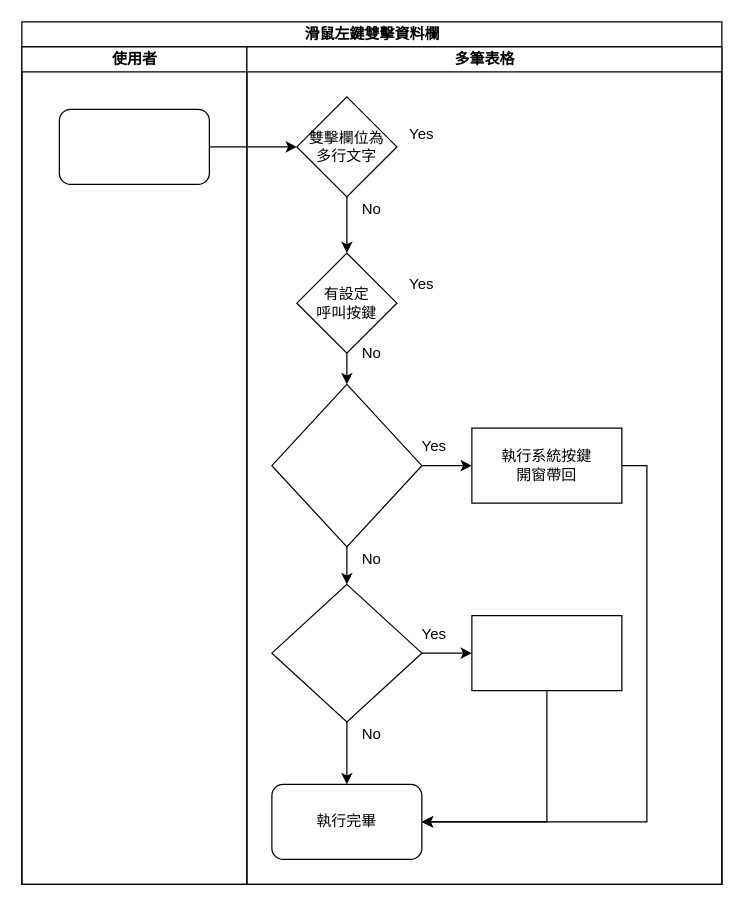
Image size: 744x906. Some labels were removed from this diagram. Each missing label, with the centre of its shape:
"使用者對多筆表格資料列執行滑鼠雙擊" belongs at (x=133, y=146).
"前單為開窗帶回且 多筆瀏覽為主檔區" belongs at (x=346, y=465).
"執行系統按鍵 開啟清單" belongs at (x=546, y=652).
"表單為多筆 且有附掛清單表單" belongs at (x=346, y=652).
